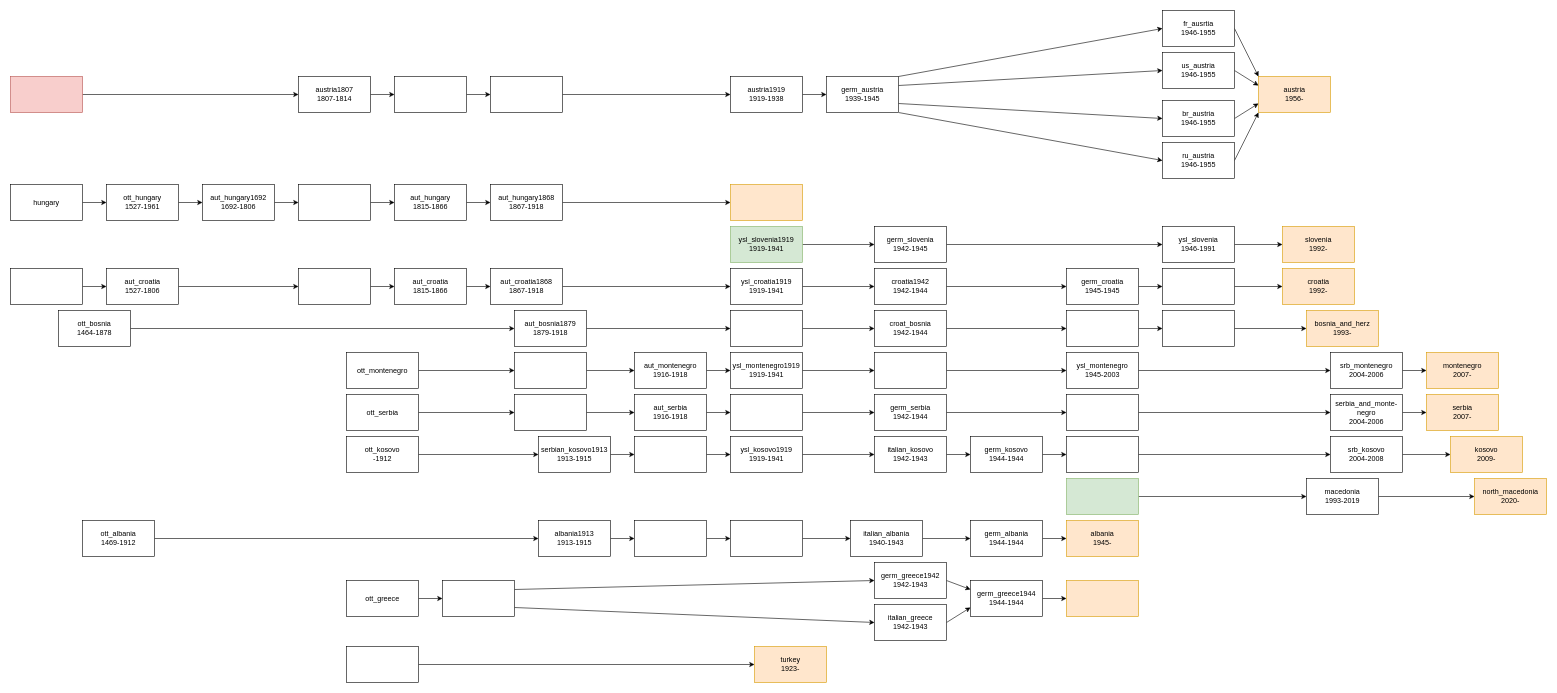
The diagram is 1557 pixels wide and 693 high, and some of its shapes have lost their labels. Here are the shapes that lost their labels. From the top down, the box of each, then its label:
(10, 76, 82, 112): hre_austria1454 1454-1806
(394, 76, 466, 112): germ_austria 1815-1866
(490, 76, 562, 112): austria_hungary 1867-1918
(298, 184, 370, 220): aut_hungary1807 1807-1814
(730, 184, 802, 220): hungary 1919-
(10, 268, 82, 304): hung_croatia
(298, 268, 370, 304): aut_croatia1807 1807-1814
(1162, 268, 1234, 304): ysl_croatia 1946-1991
(730, 310, 802, 346): ysl_bosnia1919 1919-1941
(1066, 310, 1138, 346): germ_bosnia 1945-1945
(1162, 310, 1234, 346): ysl_bosnia 1946-1992
(514, 352, 586, 388): montenegro1879 1879-1915
(874, 352, 946, 388): montenegro1942 1942-1944
(514, 394, 586, 430): serbia1879 1879-1915
(730, 394, 802, 430): yugoslavia1919 1919-1941
(1066, 394, 1138, 430): yugoslavia 1945-2003
(634, 436, 706, 472): aut_kosovo 1916-1918
(1066, 436, 1138, 472): ysl_kosovo 1945-2003
(1066, 478, 1138, 514): ysl_macedonia 1945-1992
(634, 520, 706, 556): aut_albania 1916-1918
(730, 520, 802, 556): albania1919 1919-1939
(442, 580, 514, 616): greece1830 1830-1941
(1066, 580, 1138, 616): greece 1945-
(346, 646, 418, 682): ottoman
